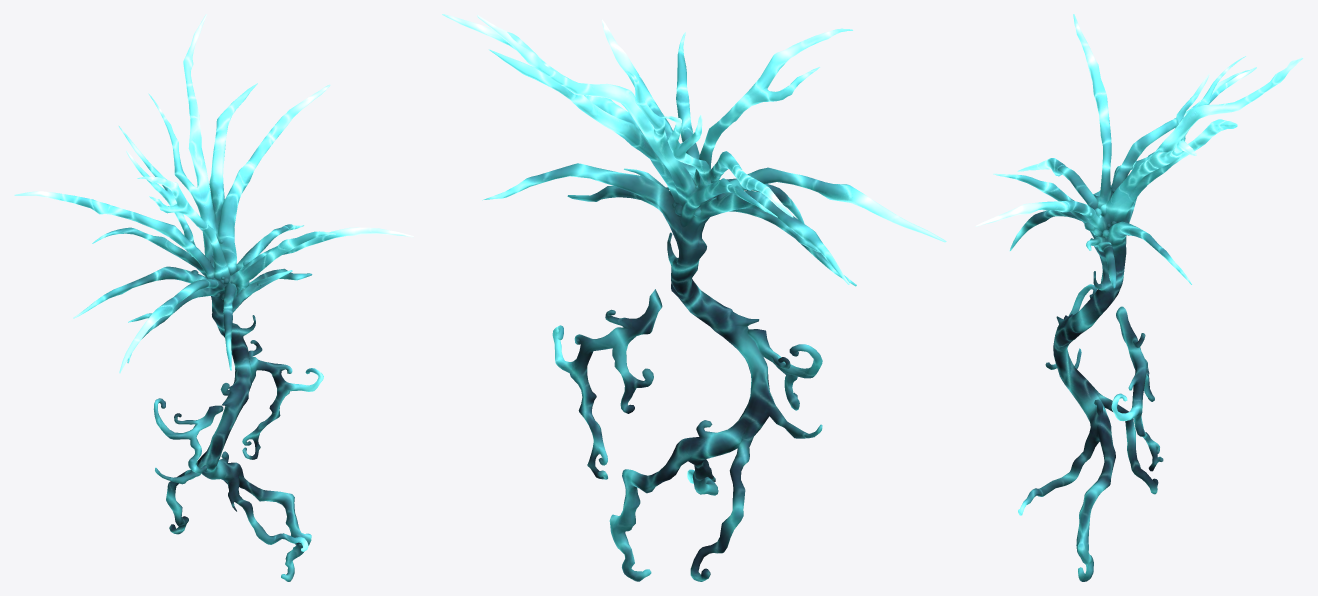
The model's file is caos_sts_chaosplant_01b_soma_v36.glb.
3 renders of one model, left to right at view 1: azimuth 30°, elevation 25°; view 2: azimuth 150°, elevation 25°; view 3: azimuth 270°, elevation 25°, orthographic. The views are drawn at different scales.
Parts seen in each view (by area): view 1: caos_sts_chaosplant_01b; view 2: caos_sts_chaosplant_01b; view 3: caos_sts_chaosplant_01b.
Boxes of the visible parts, box(x1,y1,x2,y2) form: caos_sts_chaosplant_01b: box(14, 14, 413, 581); caos_sts_chaosplant_01b: box(442, 14, 946, 581); caos_sts_chaosplant_01b: box(975, 14, 1303, 581).
Size of the model in its own units: 4.95 by 7.91 by 4.4.
1 material, 1 textured.
